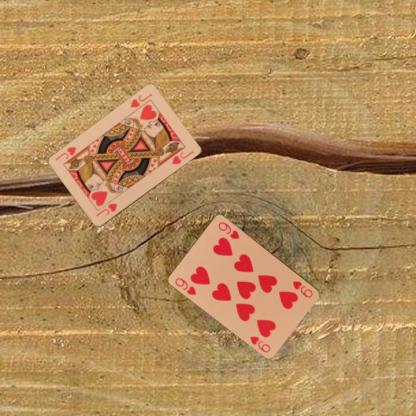9h: (172, 275, 198, 296), (290, 278, 314, 299)
Jh: (93, 201, 118, 219), (128, 91, 153, 109)
